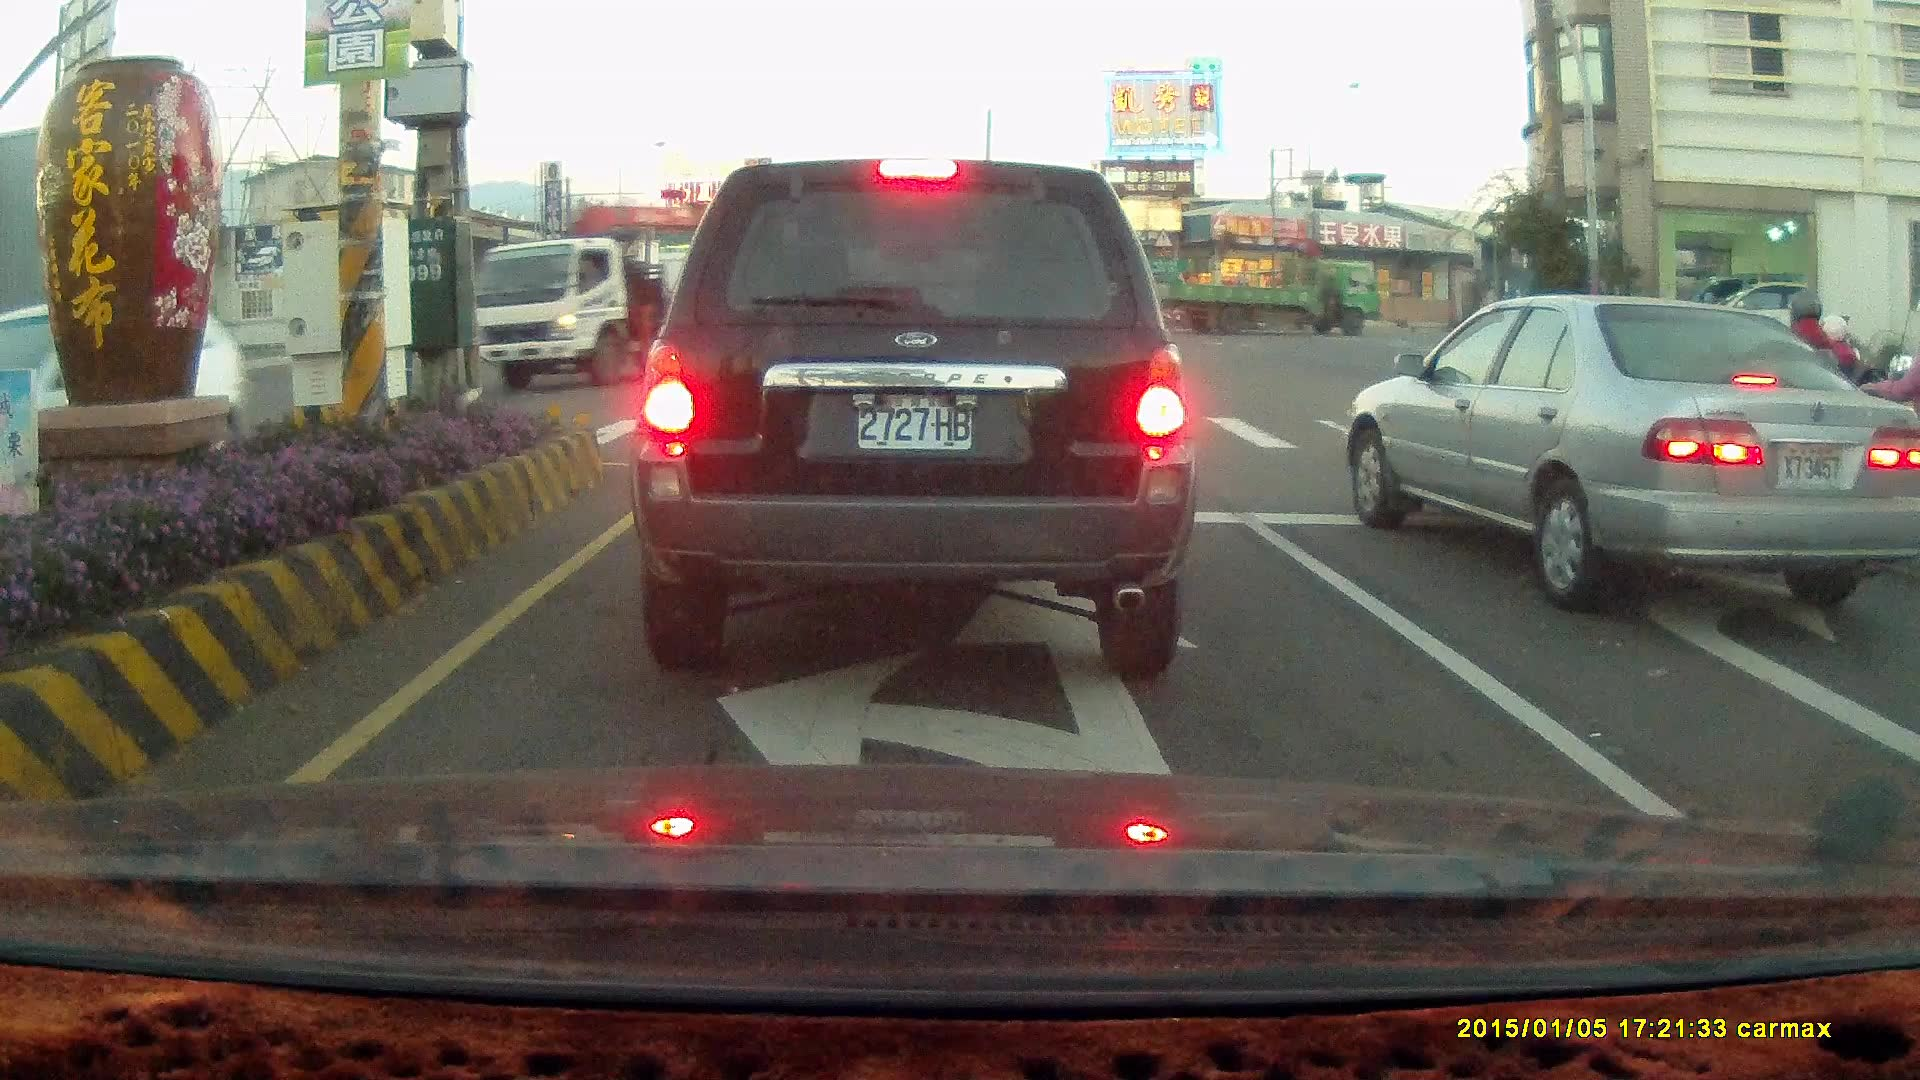rider: (1814, 347, 1920, 580)
vehicle: (627, 154, 1197, 680), (1341, 292, 1920, 612), (1356, 296, 1906, 597), (459, 237, 792, 396), (1656, 276, 1850, 372), (1180, 256, 1378, 340), (1667, 275, 1821, 372), (1896, 493, 1920, 836)
